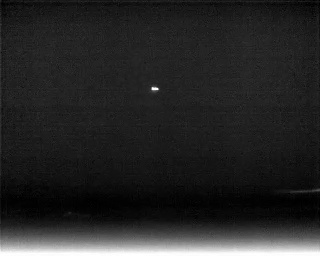AIRPLANE: (149, 84, 161, 93)
